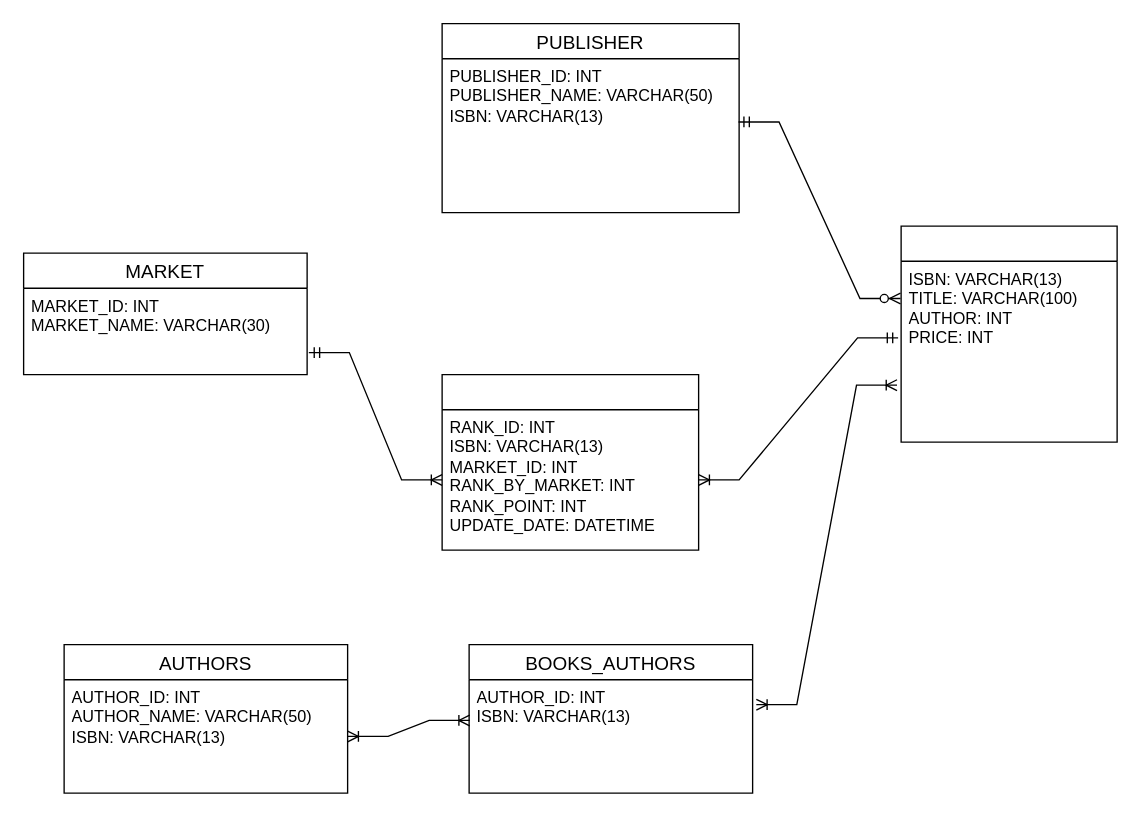
The diagram is 1141 pixels wide and 821 high, and some of its shapes have lost their labels. Each missing label, with the box of its shape:
BOOKS: (900, 225, 1117, 442)
SALES_RANK: (441, 373, 699, 550)
